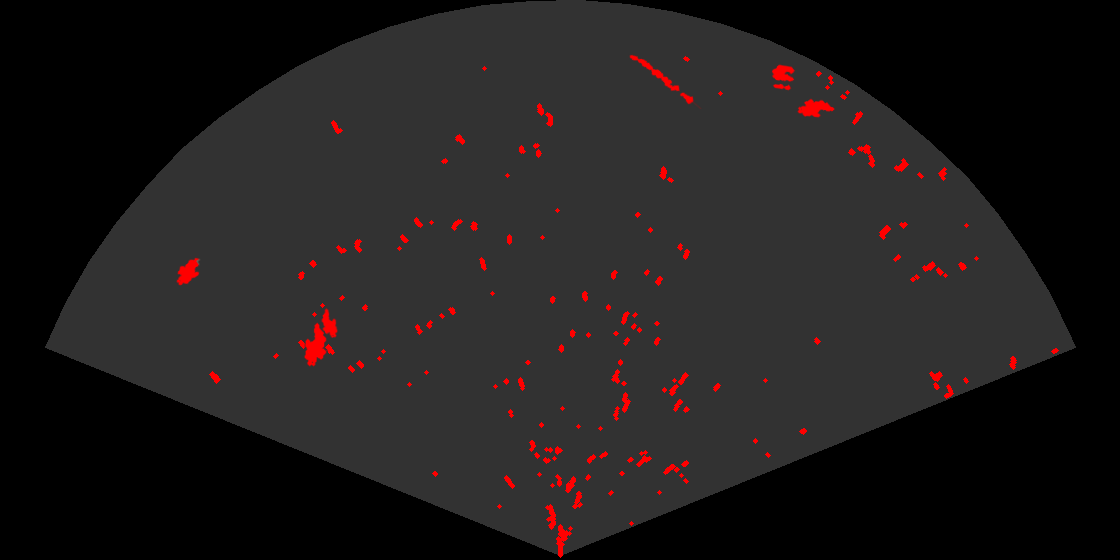AUV: (303, 321, 328, 368), (796, 97, 836, 119), (175, 256, 201, 287), (319, 306, 339, 339)
ball: (770, 63, 797, 92)
chain: (628, 53, 703, 109)
